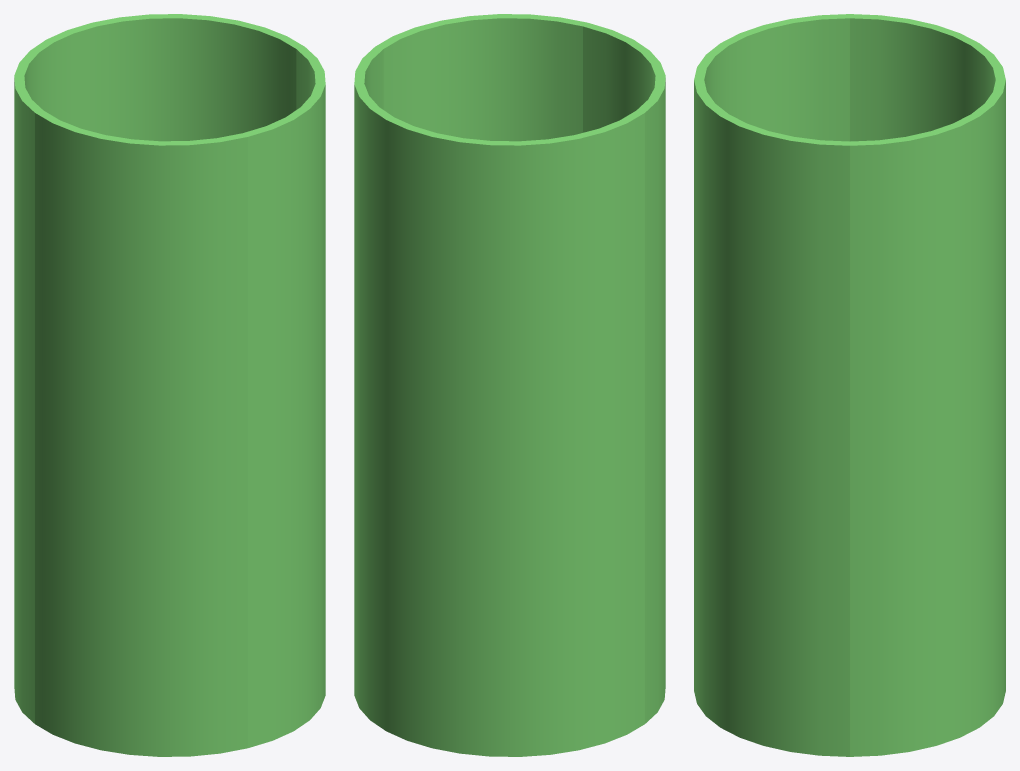
File: ShuttleF-PayloadBay.fbx
3 views of the same model, side by side, from view 1: azimuth 30°, elevation 25°; view 2: azimuth 150°, elevation 25°; view 3: azimuth 270°, elevation 25° (orthographic).
Parts seen in each view (by area): view 1: Door.002, Door.001, Base; view 2: Base, Door.001, Door.002; view 3: Base, Door.001, Door.002.
Part boxes in pixels (x1,y1,x2,y2): Door.002: (35, 111, 247, 756); Door.001: (242, 47, 325, 747); Base: (14, 14, 304, 723); Base: (354, 47, 644, 756); Door.001: (375, 14, 587, 141); Door.002: (582, 23, 665, 723); Base: (849, 14, 1005, 756); Door.001: (694, 79, 850, 756); Door.002: (694, 14, 849, 141).
Size of what is drawn, in the model's own units: 18500 by 40000 by 18500.
